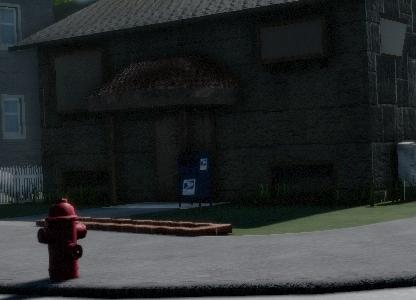Speed_60: (343, 58, 411, 125)
